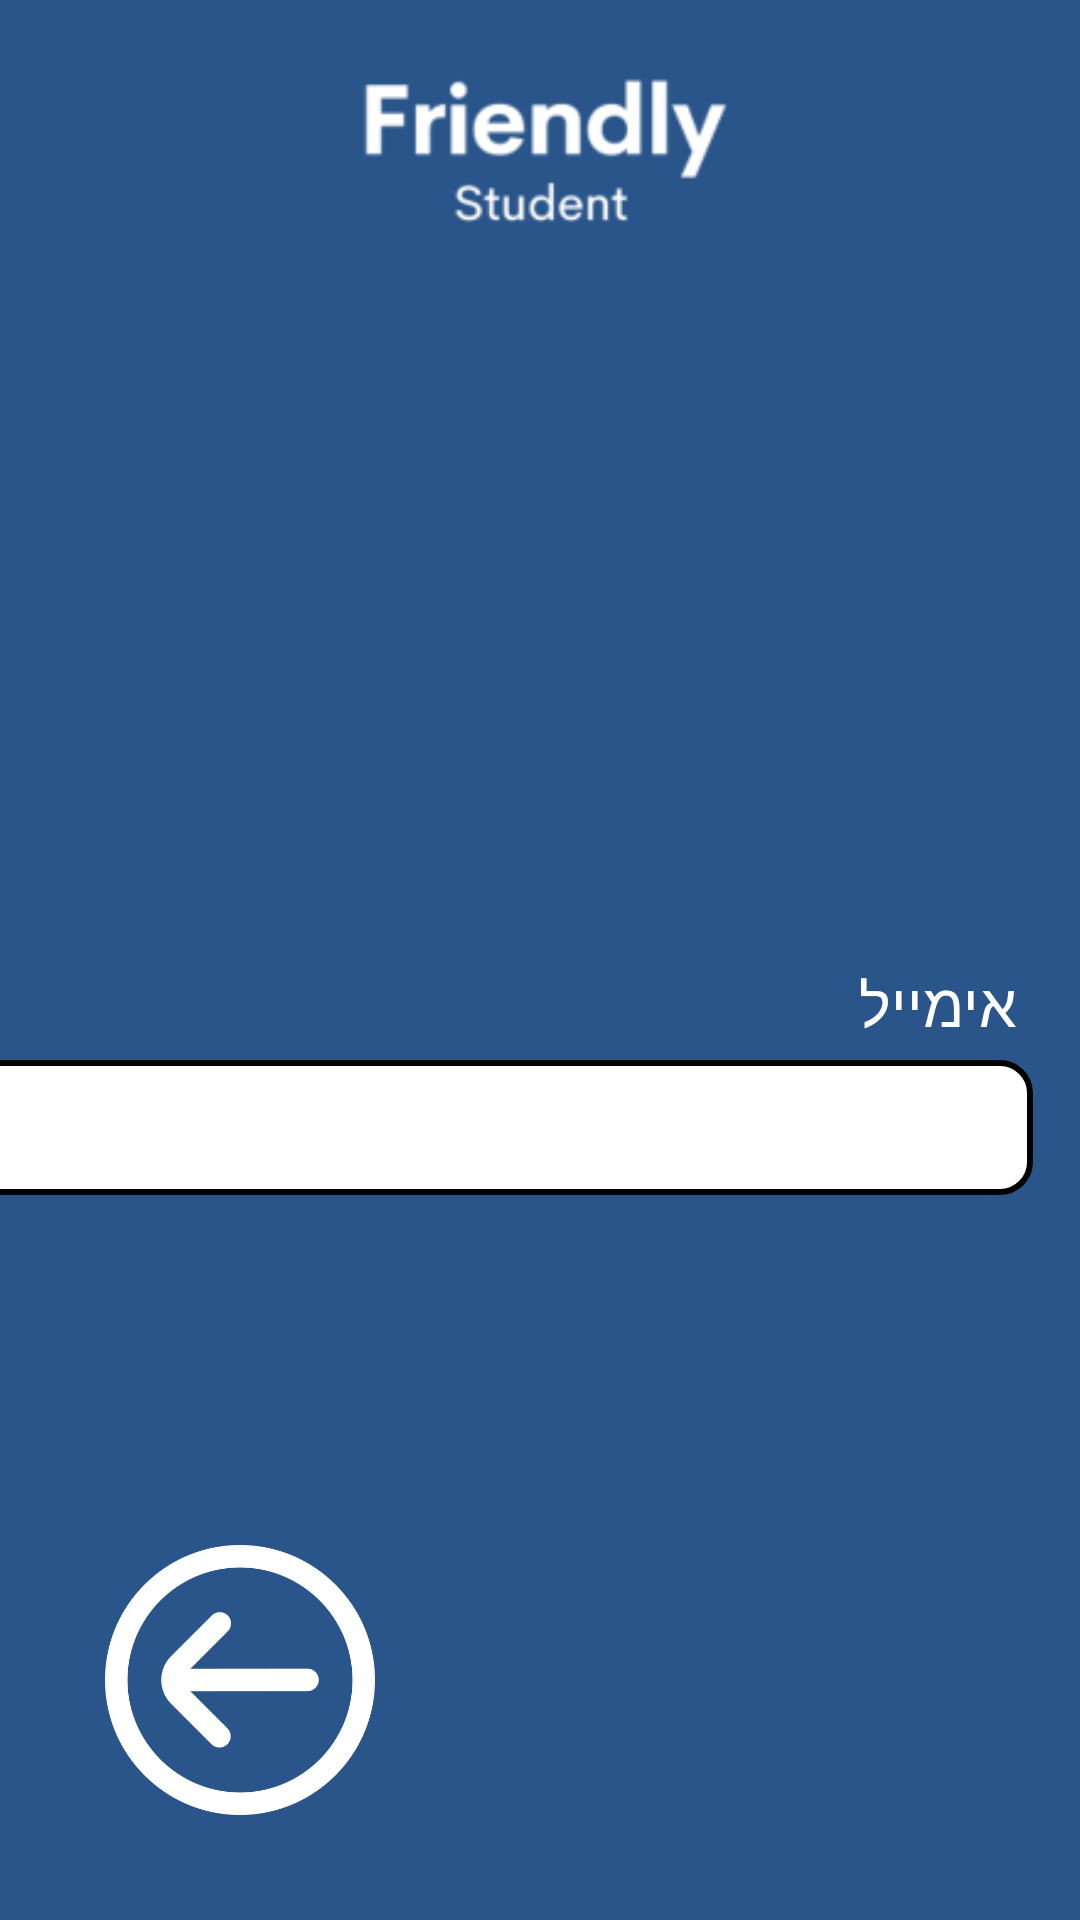

Named icons in this screenshot (1080 x 1920) and their bounding boxes, (x1, y1, x2, y2):
circulararrow: (105, 1545, 375, 1815)
